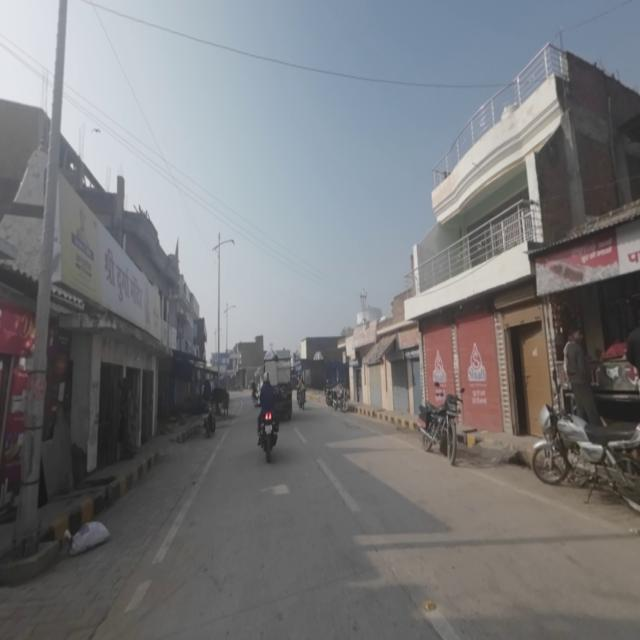Garbage: (68, 512, 110, 558)
